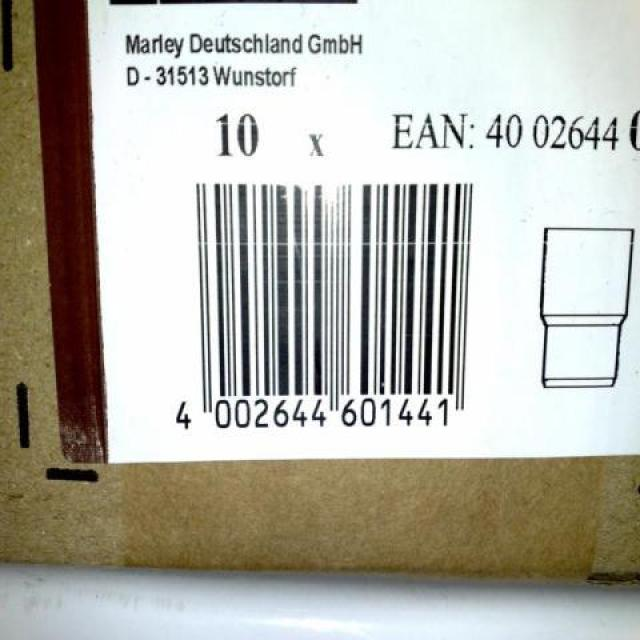Barcode: (154, 165, 505, 452)
